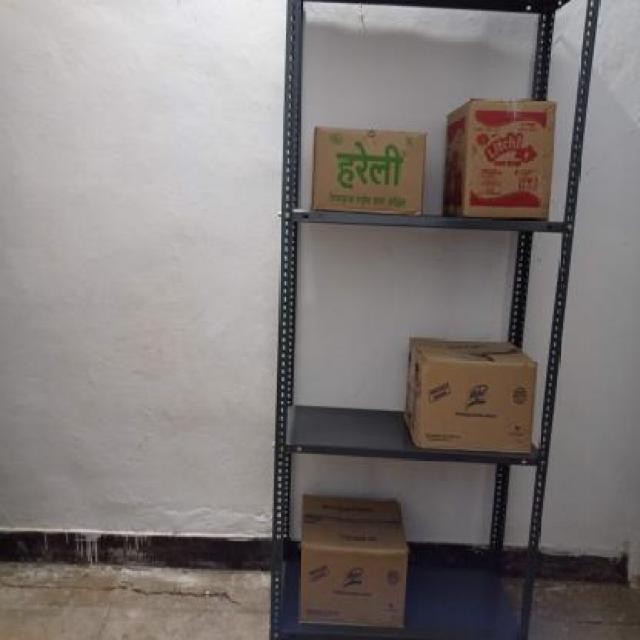box: (460, 96, 558, 218), (415, 360, 537, 446), (309, 126, 428, 212), (298, 548, 406, 622)
